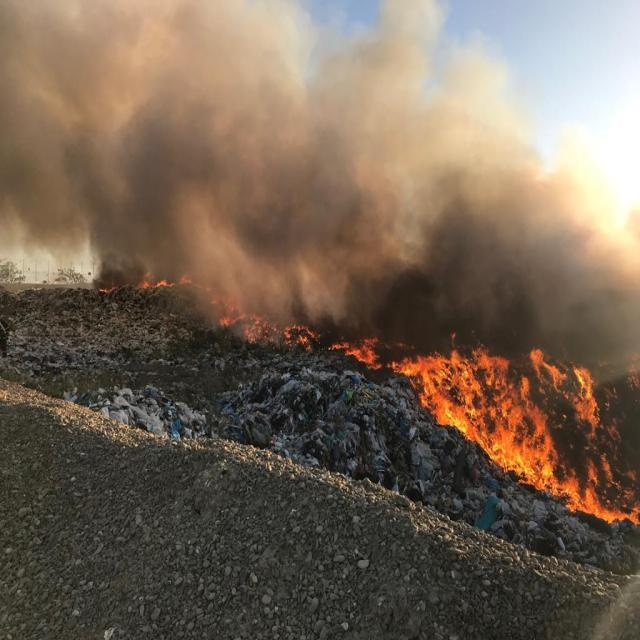Fire: (406, 347, 626, 513)
Smoke: (0, 0, 634, 371)
